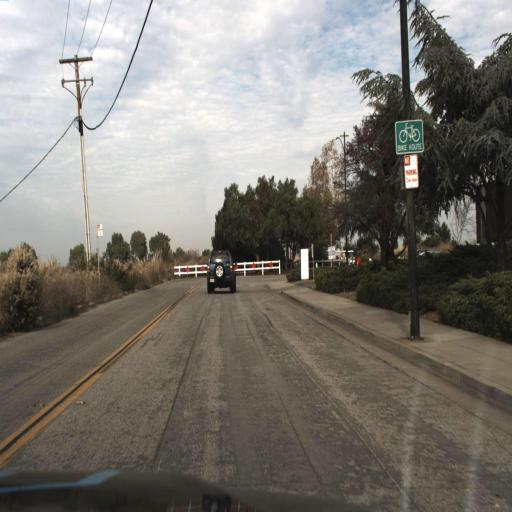car: (205, 249, 236, 291)
